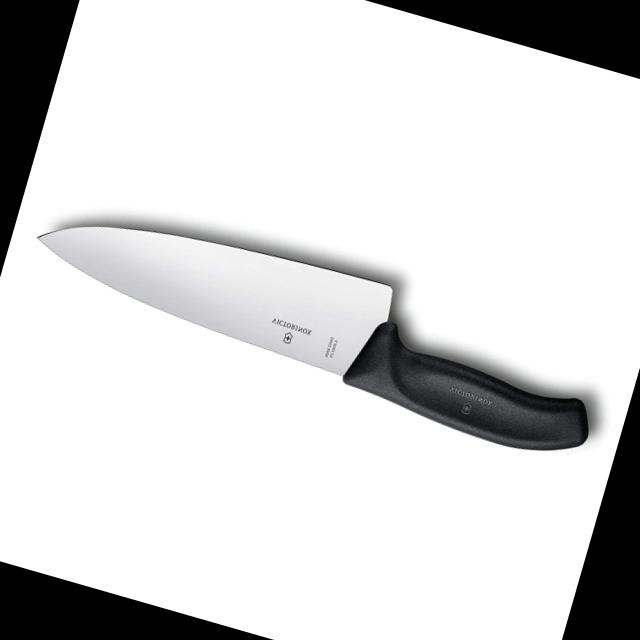Weapon: (0, 142, 638, 485)
